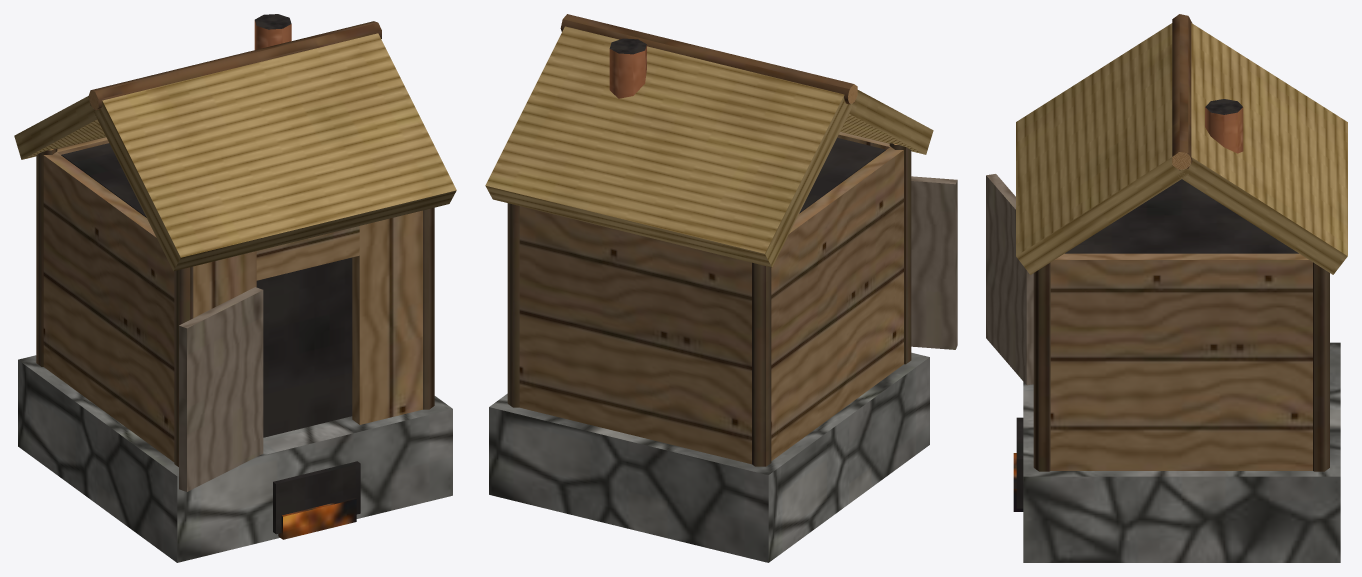
Rendered from smoker.glb.
3 views of the same model, side by side, from view 1: azimuth 30°, elevation 25°; view 2: azimuth 150°, elevation 25°; view 3: azimuth 270°, elevation 25° (orthographic).
Visible parts, largest first — view 1: smoker; view 2: smoker; view 3: smoker.
Part boxes in pixels (x1,y1,x2,y2): smoker: (14, 14, 456, 562); smoker: (485, 14, 957, 562); smoker: (986, 14, 1347, 562).
Bounding box in the file's own units: 1.58 × 2.18 × 1.71.
Materials: 1 (1 with a texture image).
